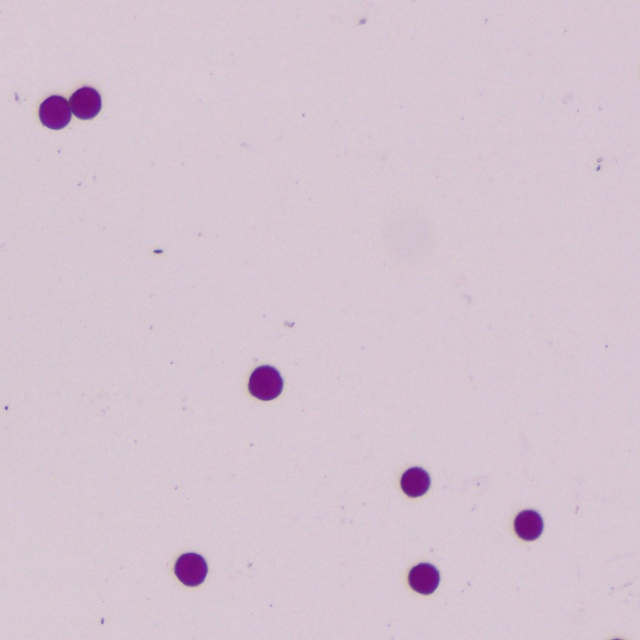viable: (40, 88, 100, 129), (249, 366, 282, 400), (175, 554, 207, 586), (409, 564, 439, 594), (401, 467, 430, 497), (515, 511, 542, 540)
